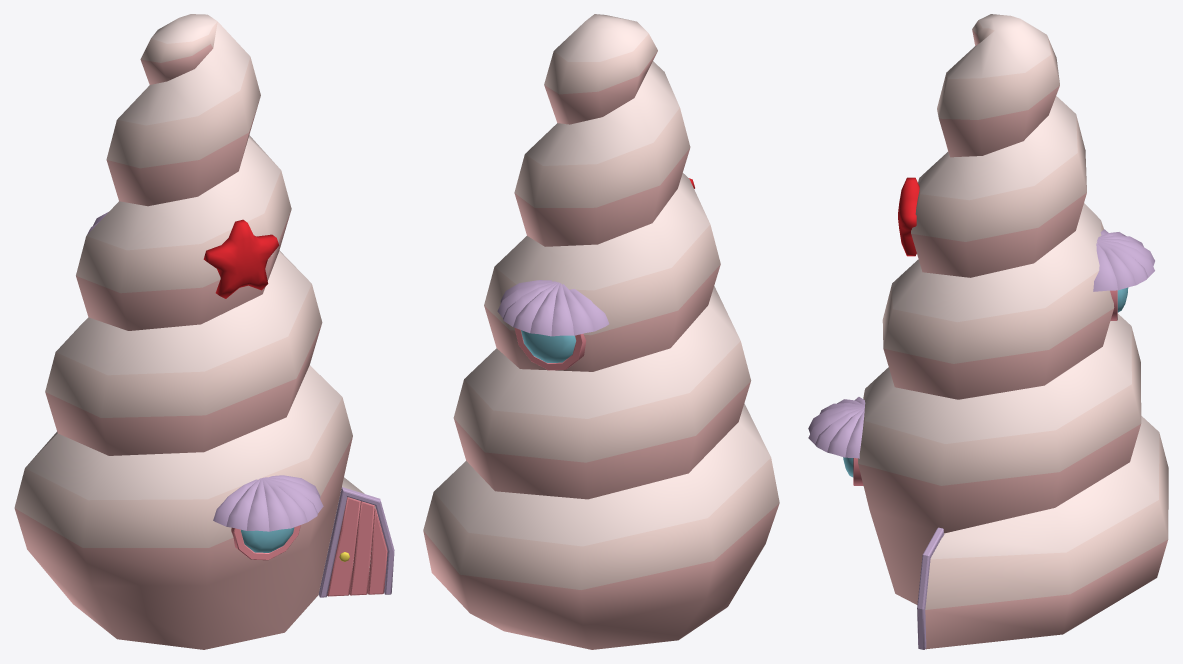
The model's file is House_2.fbx.
The picture shows the model from 3 angles, left to right: view 1: azimuth 30°, elevation 25°; view 2: azimuth 150°, elevation 25°; view 3: azimuth 270°, elevation 25°; orthographic projection. The views are drawn at different scales.
Visible parts, largest first — view 1: House_2; view 2: House_2; view 3: House_2.
Part boxes in pixels (bbox=[...]): House_2: bbox=[14, 14, 394, 649]; House_2: bbox=[423, 14, 779, 649]; House_2: bbox=[808, 14, 1168, 649].
Size of the model in its own units: 2.03 by 3.75 by 2.2.
